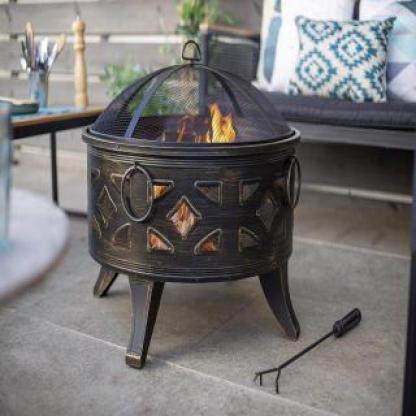fire: (203, 97, 239, 145)
